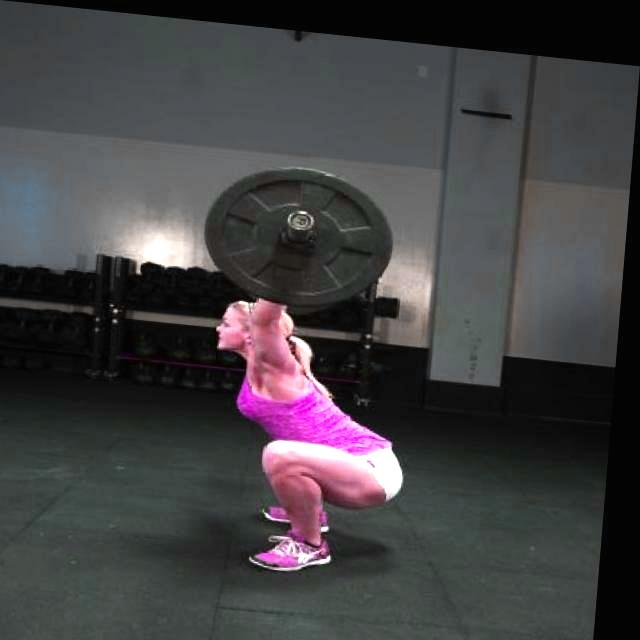barbell: (197, 146, 405, 311)
